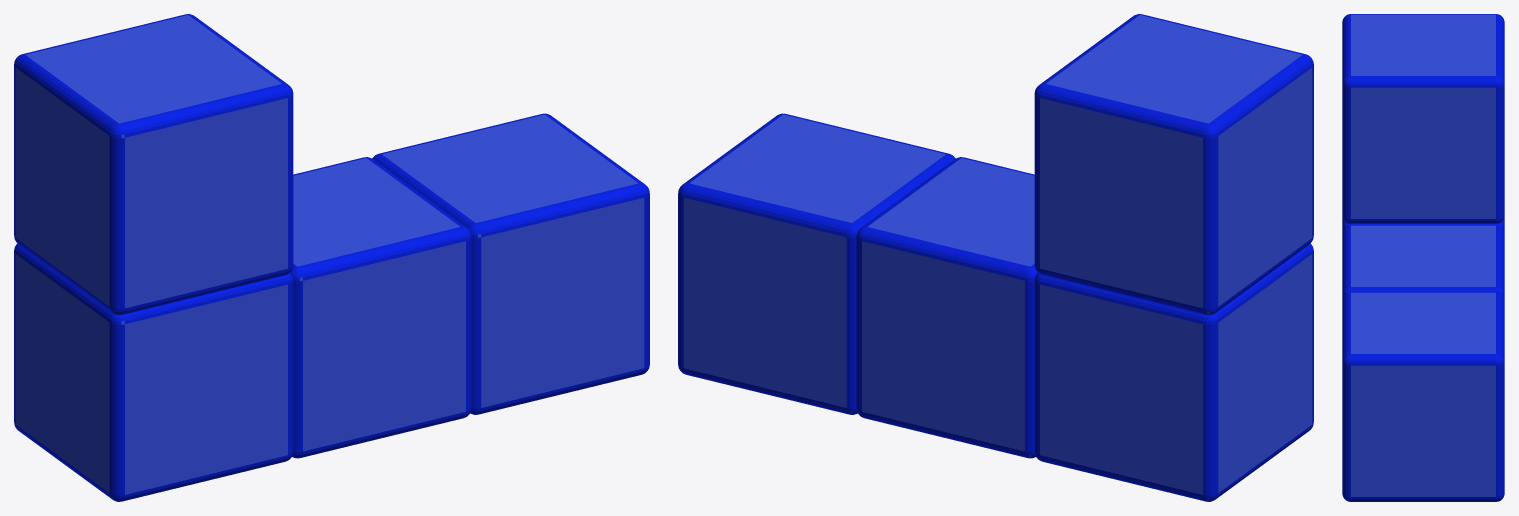
Rendered from blue.glb.
The picture shows the model from 3 angles, left to right: view 1: azimuth 30°, elevation 25°; view 2: azimuth 150°, elevation 25°; view 3: azimuth 270°, elevation 25°; orthographic projection. The views are drawn at different scales.
Parts seen in each view (by area): view 1: Cube.003, Cube.002, Cube.001, Cube; view 2: Cube.003, Cube.002, Cube.001, Cube; view 3: Cube.001, Cube.003, Cube, Cube.002.
Part boxes in pixels (left/top/right/bottom): Cube.003: left=14, top=14, right=293, bottom=315; Cube.002: left=14, top=243, right=293, bottom=501; Cube.001: left=372, top=113, right=649, bottom=414; Cube: left=290, top=157, right=471, bottom=458; Cube.003: left=1034, top=14, right=1313, bottom=315; Cube.002: left=1034, top=243, right=1313, bottom=501; Cube.001: left=678, top=113, right=955, bottom=414; Cube: left=856, top=157, right=1037, bottom=458; Cube.001: left=1342, top=292, right=1504, bottom=501; Cube.003: left=1342, top=14, right=1504, bottom=223; Cube: left=1342, top=225, right=1504, bottom=298; Cube.002: left=1342, top=217, right=1504, bottom=231.
Size of the model in its own units: 3.02 by 2.02 by 1.02.
